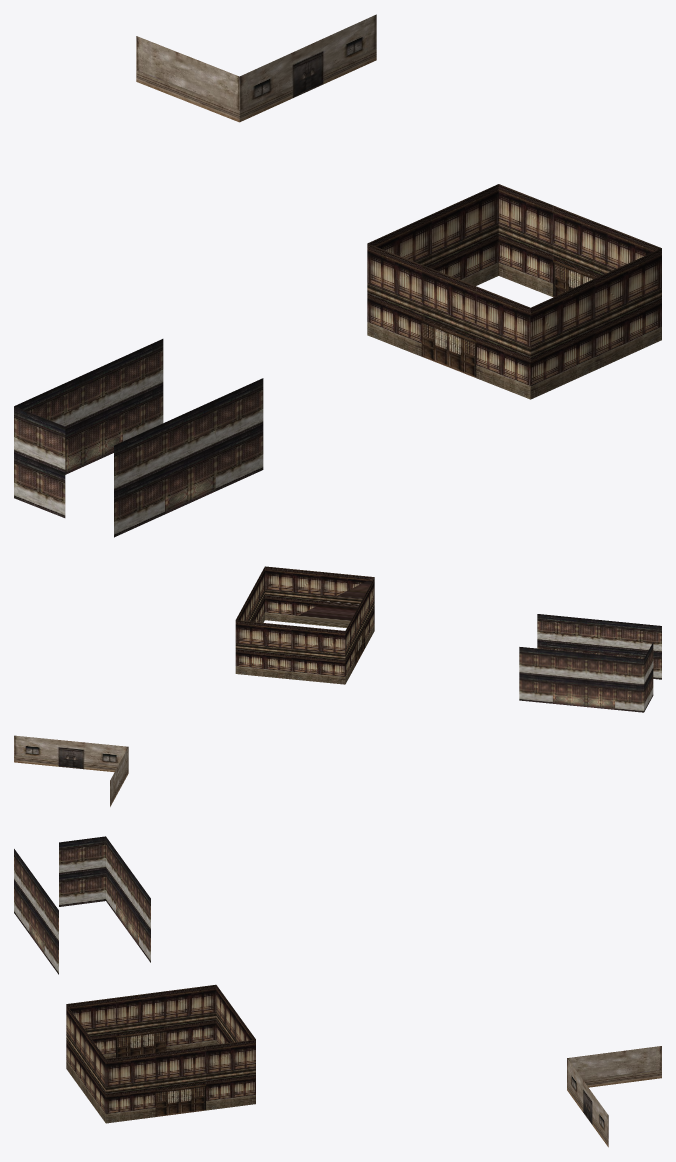
File: roomg02.obj
3 views of the same model, one above another, from view 1: azimuth 30°, elevation 25°; view 2: azimuth 150°, elevation 25°; view 3: azimuth 270°, elevation 25° (orthographic). The views are drawn at different scales.
Parts seen in each view (by area): view 1: roomg02; view 2: roomg02; view 3: roomg02.
Part boxes in pixels (x1,y1,x2,y2): roomg02: (14, 14, 661, 537); roomg02: (14, 566, 661, 806); roomg02: (14, 836, 661, 1147).
Bounding box in the file's own units: 1147 × 140 × 1271.
